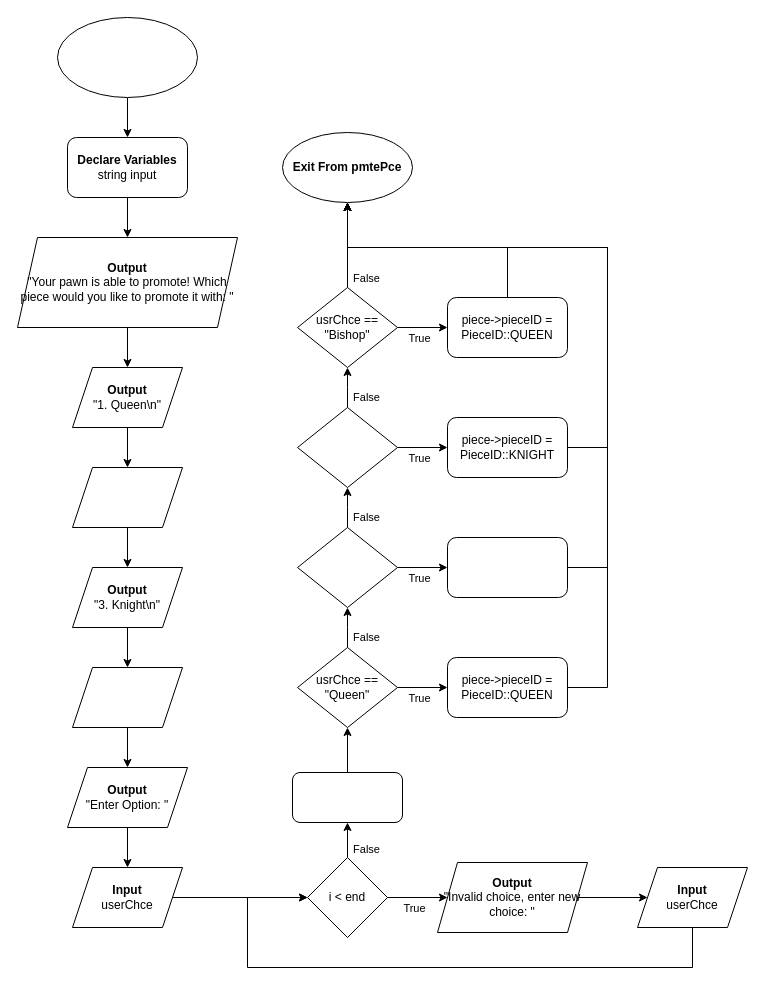
The diagram is 765 pixels wide and 993 high, and some of its shapes have lost their labels. The shapes that lost their labels are listed below. From the top down, each one's centre as x and y in pixels, then its label:
(x=127, y=57): void pmtePce(Piece *const piece)
(x=347, y=447): usrChce == "Knight"
(x=127, y=497): Output "2. Rook\n"
(x=347, y=567): usrChce == "Rook"
(x=507, y=567): piece->pieceID = PieceID::ROOK
(x=127, y=697): Output "4. Bishop\n"
(x=347, y=797): piece->fstMove = false
